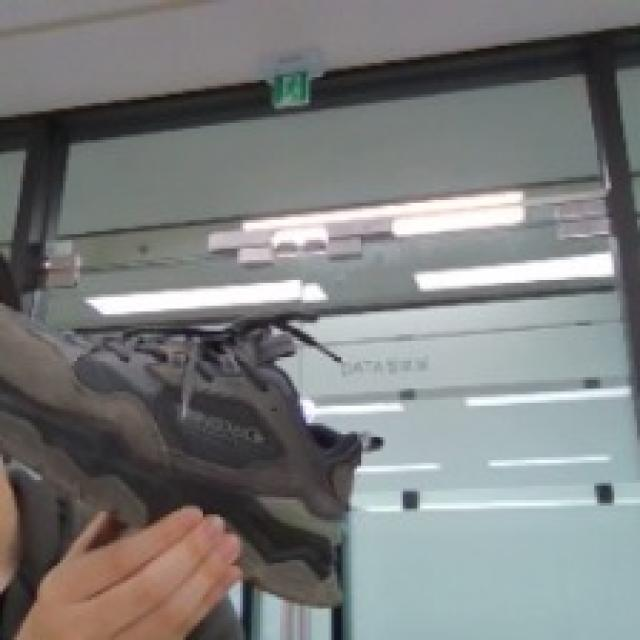shoes: (0, 304, 365, 611)
